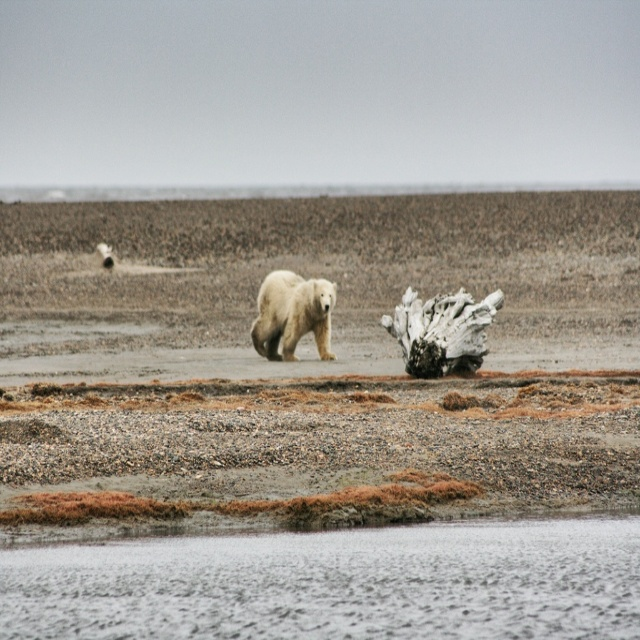Polar bear: (250, 269, 337, 362)
